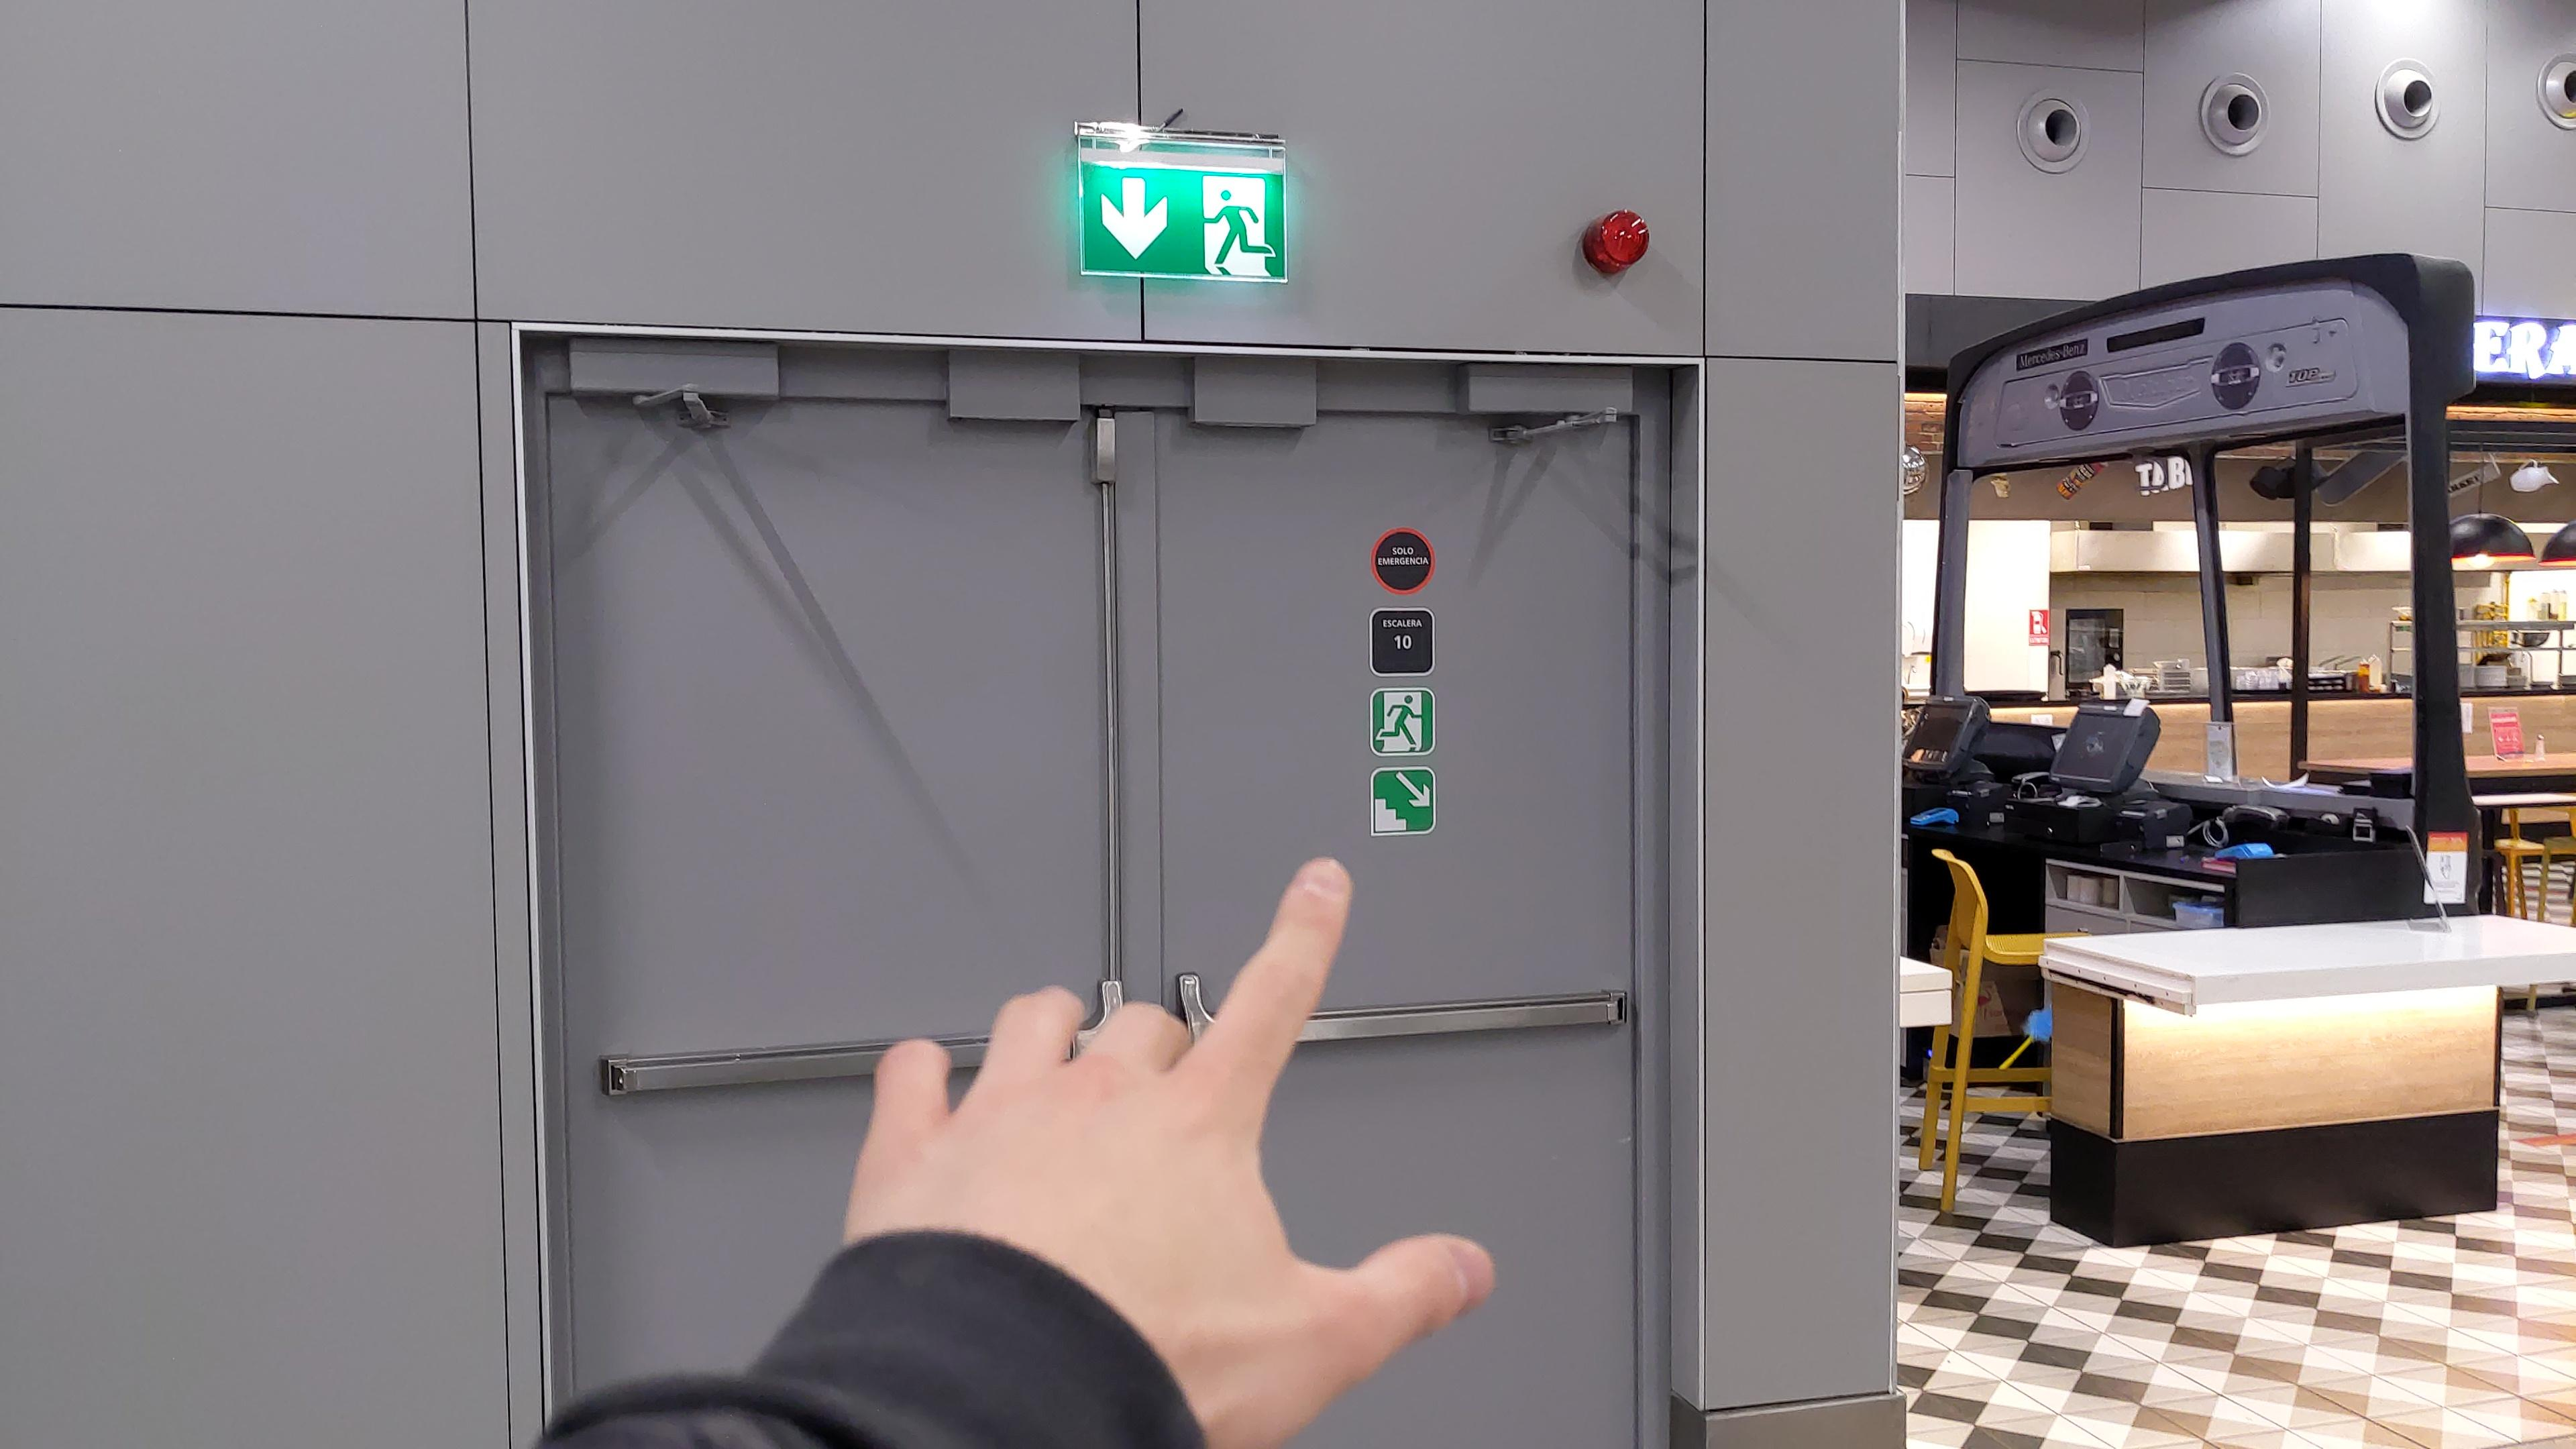emergency down arrow: (1093, 168, 1180, 267)
emergency exit: (1196, 172, 1279, 281), (1373, 692, 1426, 752)
